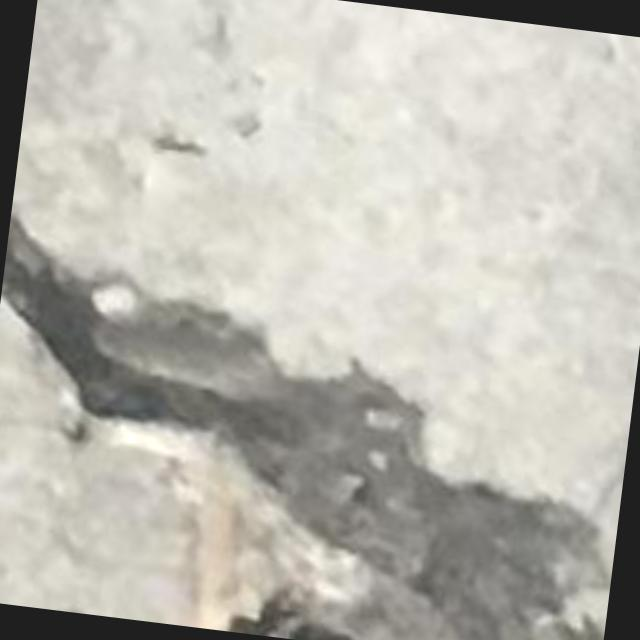crack: (0, 216, 608, 639)
